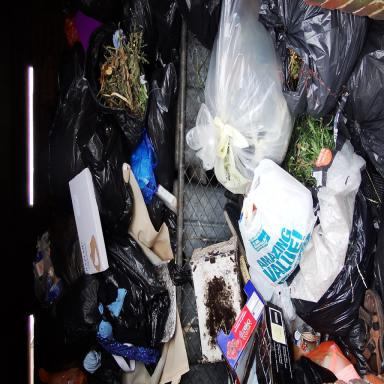plasticbag: (208, 0, 290, 183), (296, 160, 373, 324), (47, 74, 131, 213), (268, 0, 360, 115), (94, 14, 160, 138), (102, 229, 174, 333), (240, 159, 303, 274), (34, 273, 103, 361), (340, 39, 384, 174), (131, 137, 169, 197)
